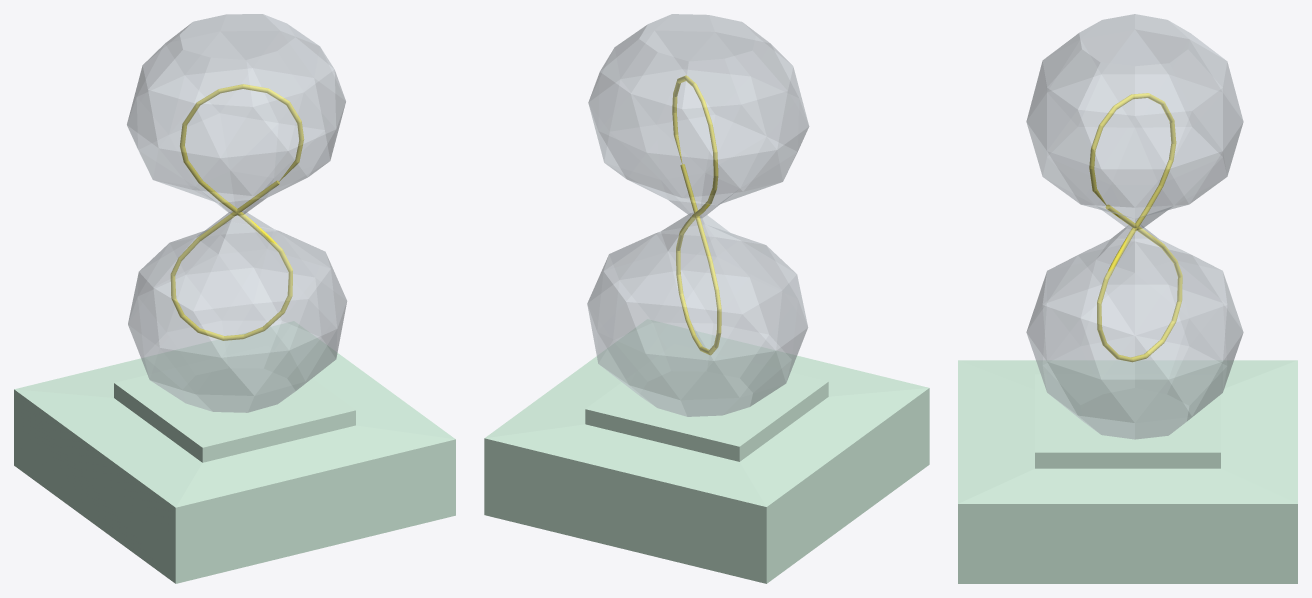
The model's file is sculp.glb.
The picture shows the model from 3 angles, left to right: view 1: azimuth 30°, elevation 25°; view 2: azimuth 150°, elevation 25°; view 3: azimuth 270°, elevation 25°; orthographic projection. The views are drawn at different scales.
Visible parts, largest first — view 1: Plane.052, Icosphere.007, Cylinder.014; view 2: Plane.052, Icosphere.007, Cylinder.014; view 3: Plane.052, Icosphere.007, Cylinder.014.
Part boxes in pixels (box(x1,y1,x2,y2)): Plane.052: box(14, 321, 455, 583); Icosphere.007: box(127, 14, 346, 412); Cylinder.014: box(170, 84, 303, 340); Plane.052: box(484, 319, 929, 583); Icosphere.007: box(587, 14, 809, 416); Cylinder.014: box(672, 75, 721, 355); Plane.052: box(958, 360, 1297, 583); Icosphere.007: box(1026, 14, 1243, 439); Cylinder.014: box(1089, 93, 1182, 362).
Size of the model in its own units: 17.95 by 27.63 by 17.95.
